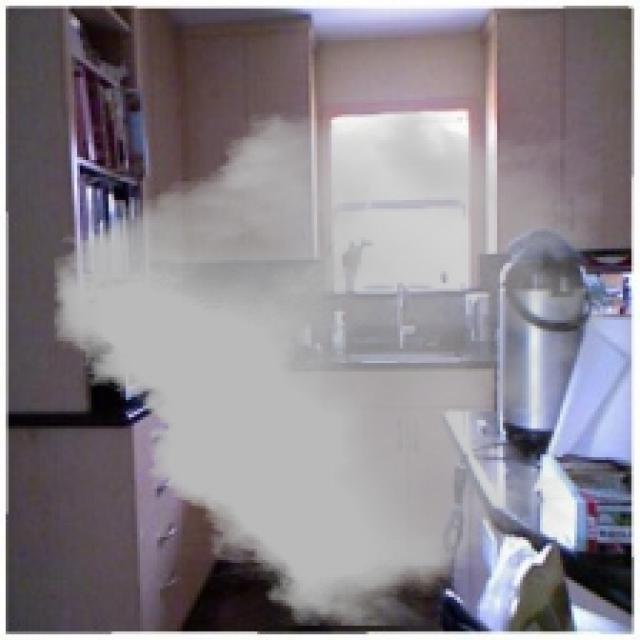Smoke: (54, 105, 603, 626)
